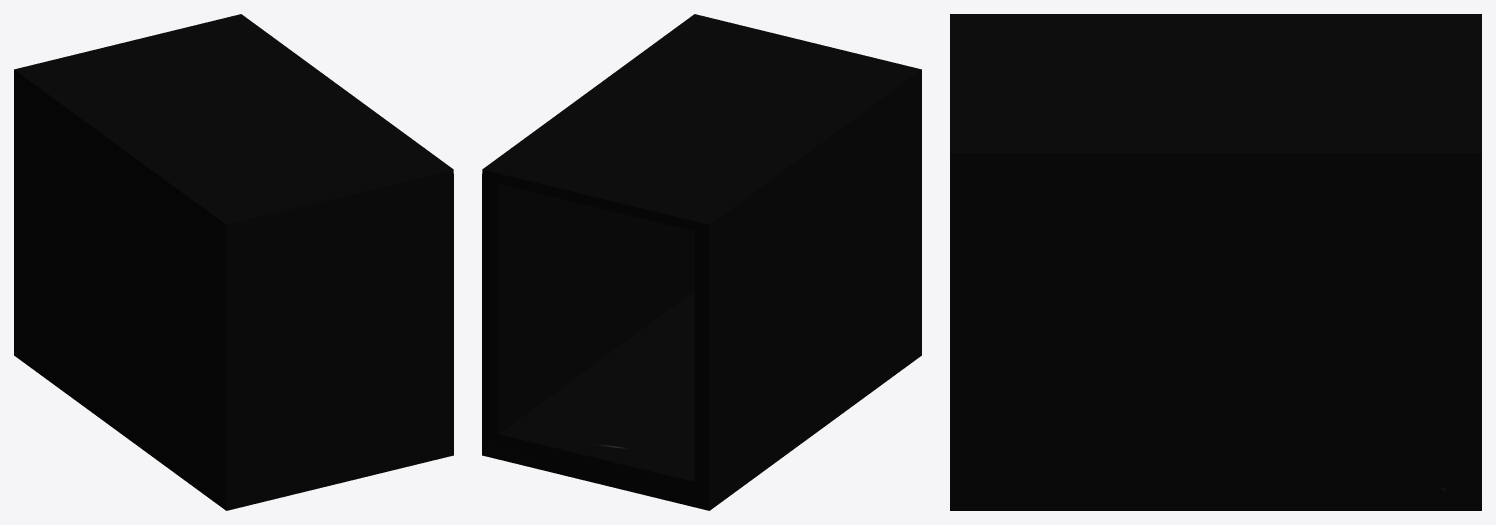
The model's file is PreRoom.fbx.
3 renders of one model, left to right at view 1: azimuth 30°, elevation 25°; view 2: azimuth 150°, elevation 25°; view 3: azimuth 270°, elevation 25°, orthographic. The views are drawn at different scales.
Visible parts, largest first — view 1: PreRoom; view 2: PreRoom; view 3: PreRoom.
Part boxes in pixels (<box>): PreRoom: <box>14,14,453,510</box>; PreRoom: <box>482,14,921,510</box>; PreRoom: <box>950,14,1481,510</box>.
Size of the model in its own units: 410 by 493 by 664.
Materials: 1 (1 with a texture image).
